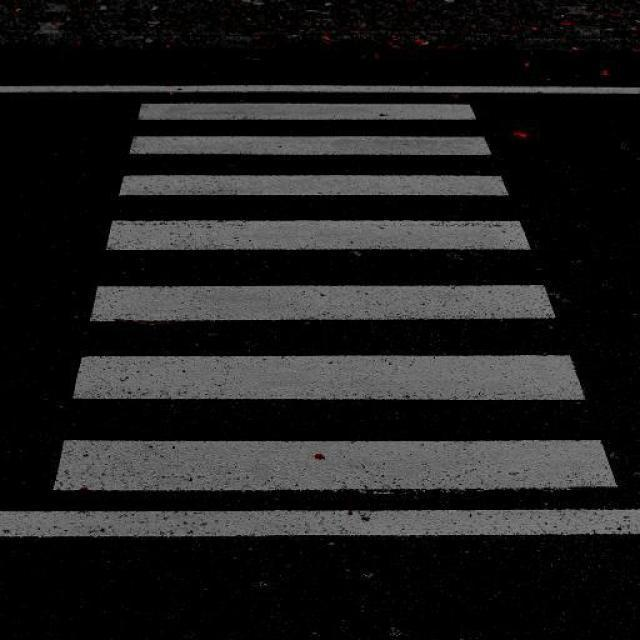crosswalk: (58, 103, 621, 494)
